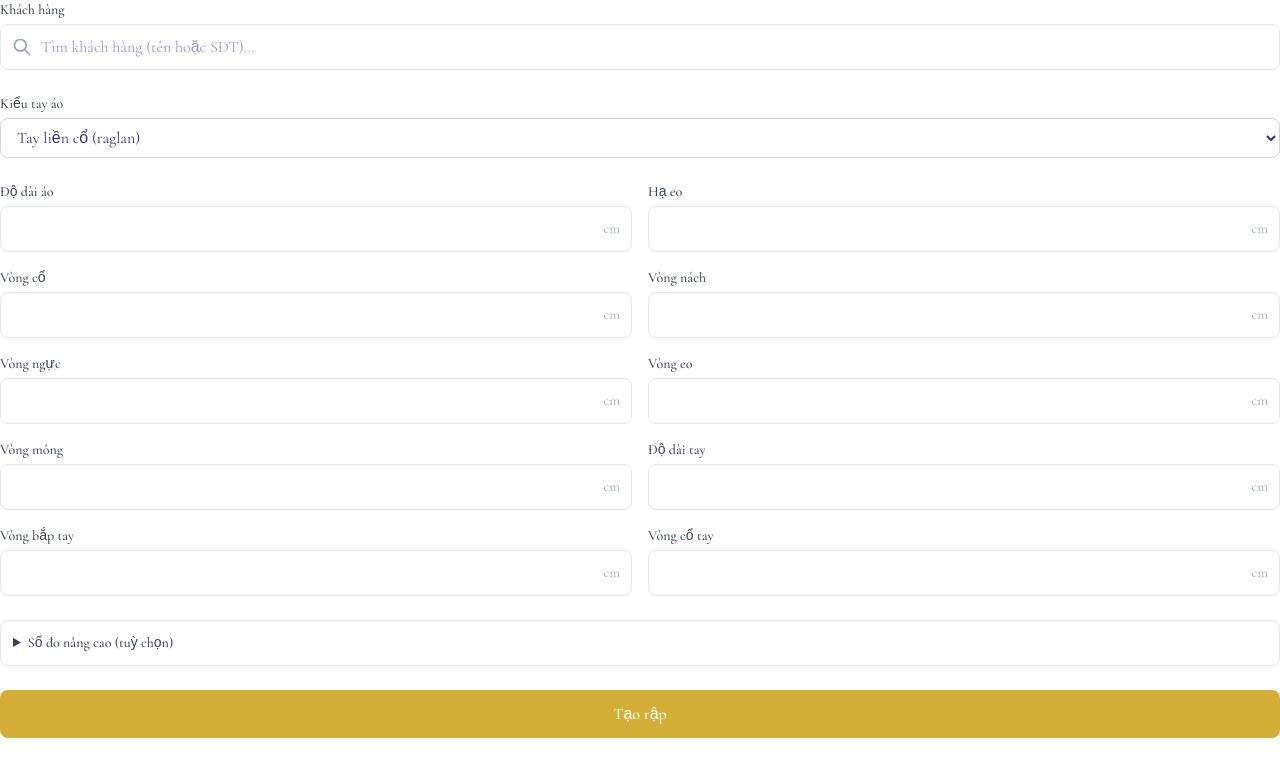
Scenario: MeasurementForm › clears customer and form on clear button click
The image size is (1280, 771).
# Select customer
Type "Nguyễn" into the field with placeholder "Tìm khách hàng (tên hoặc SĐT)..." at [640, 47], box [0, 24, 1279, 70]
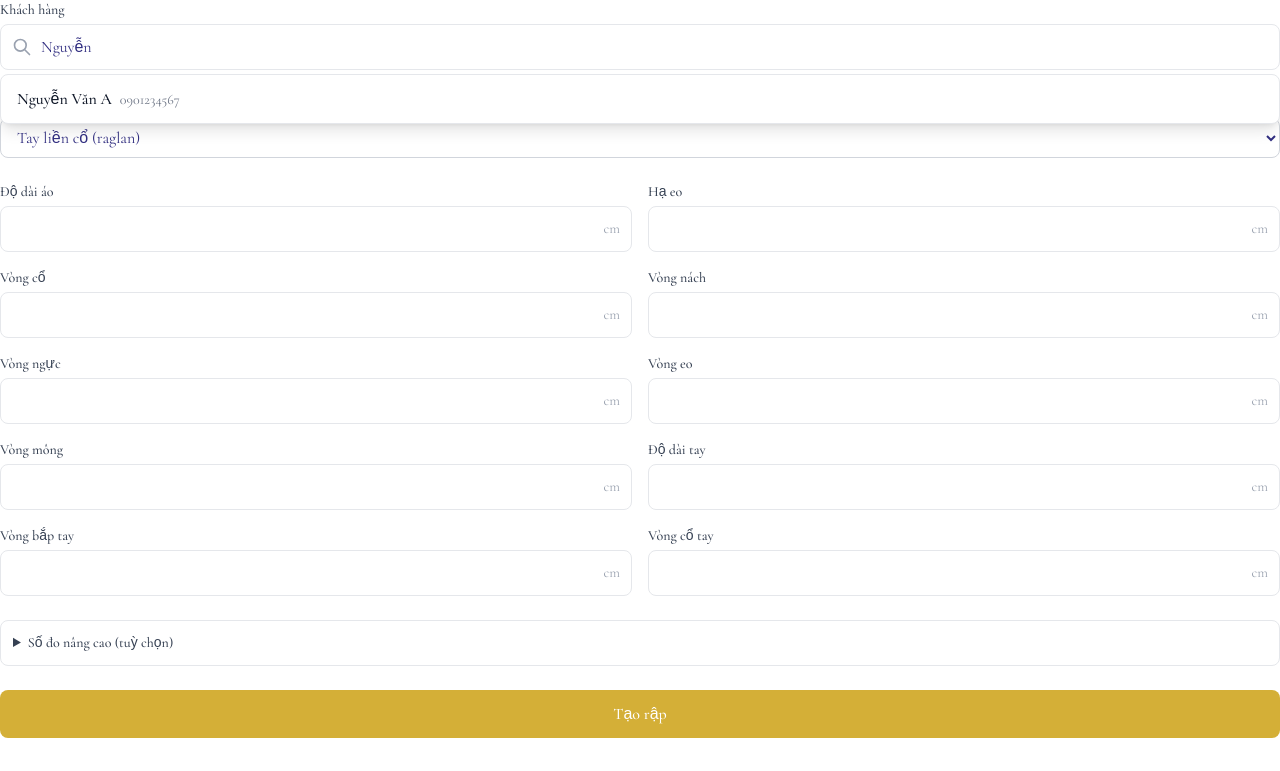
Click the option "Nguyễn Văn A0901234567" at [64, 99], box [1, 75, 1279, 123]
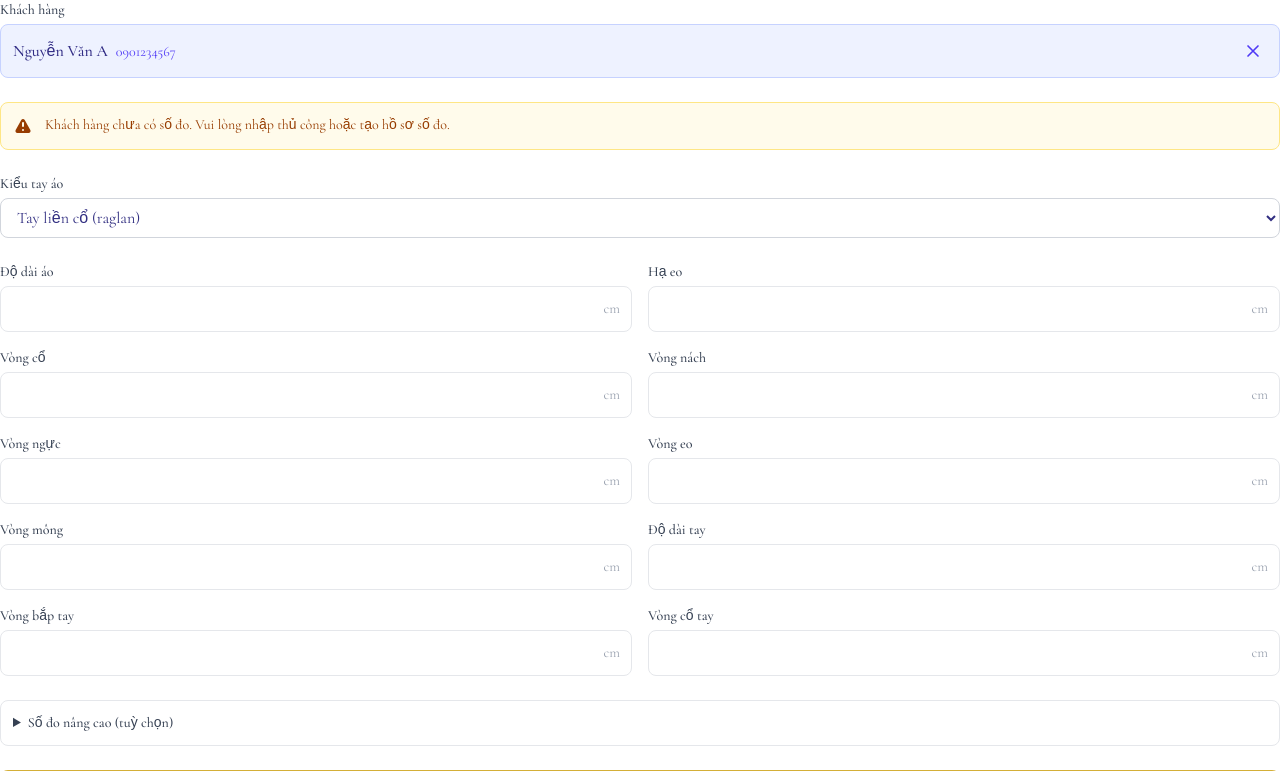
# Clear customer
Click the button named "Xóa khách hàng đã chọn" at [1253, 51], box [1239, 37, 1267, 65]
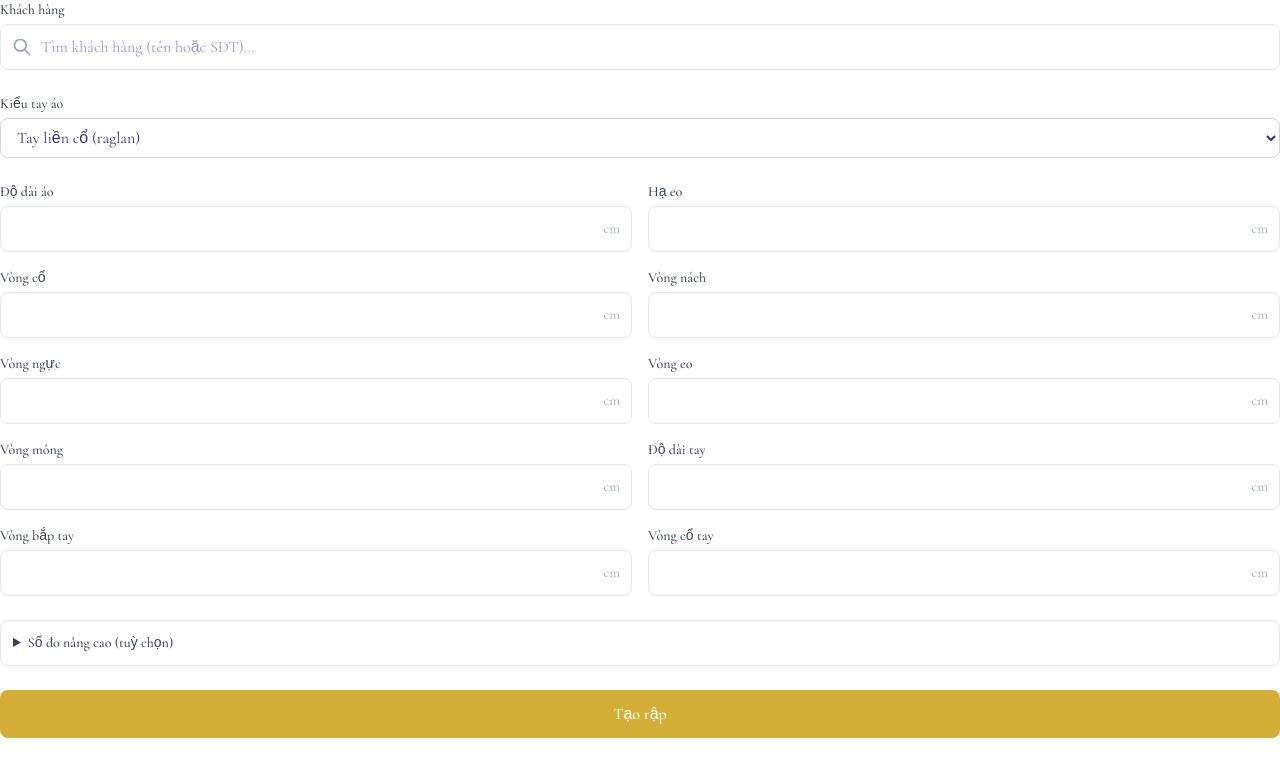
Check: the field with placeholder "Tìm khách hàng (tên hoặc SĐT)..." is shown, box [0, 24, 1279, 70]
